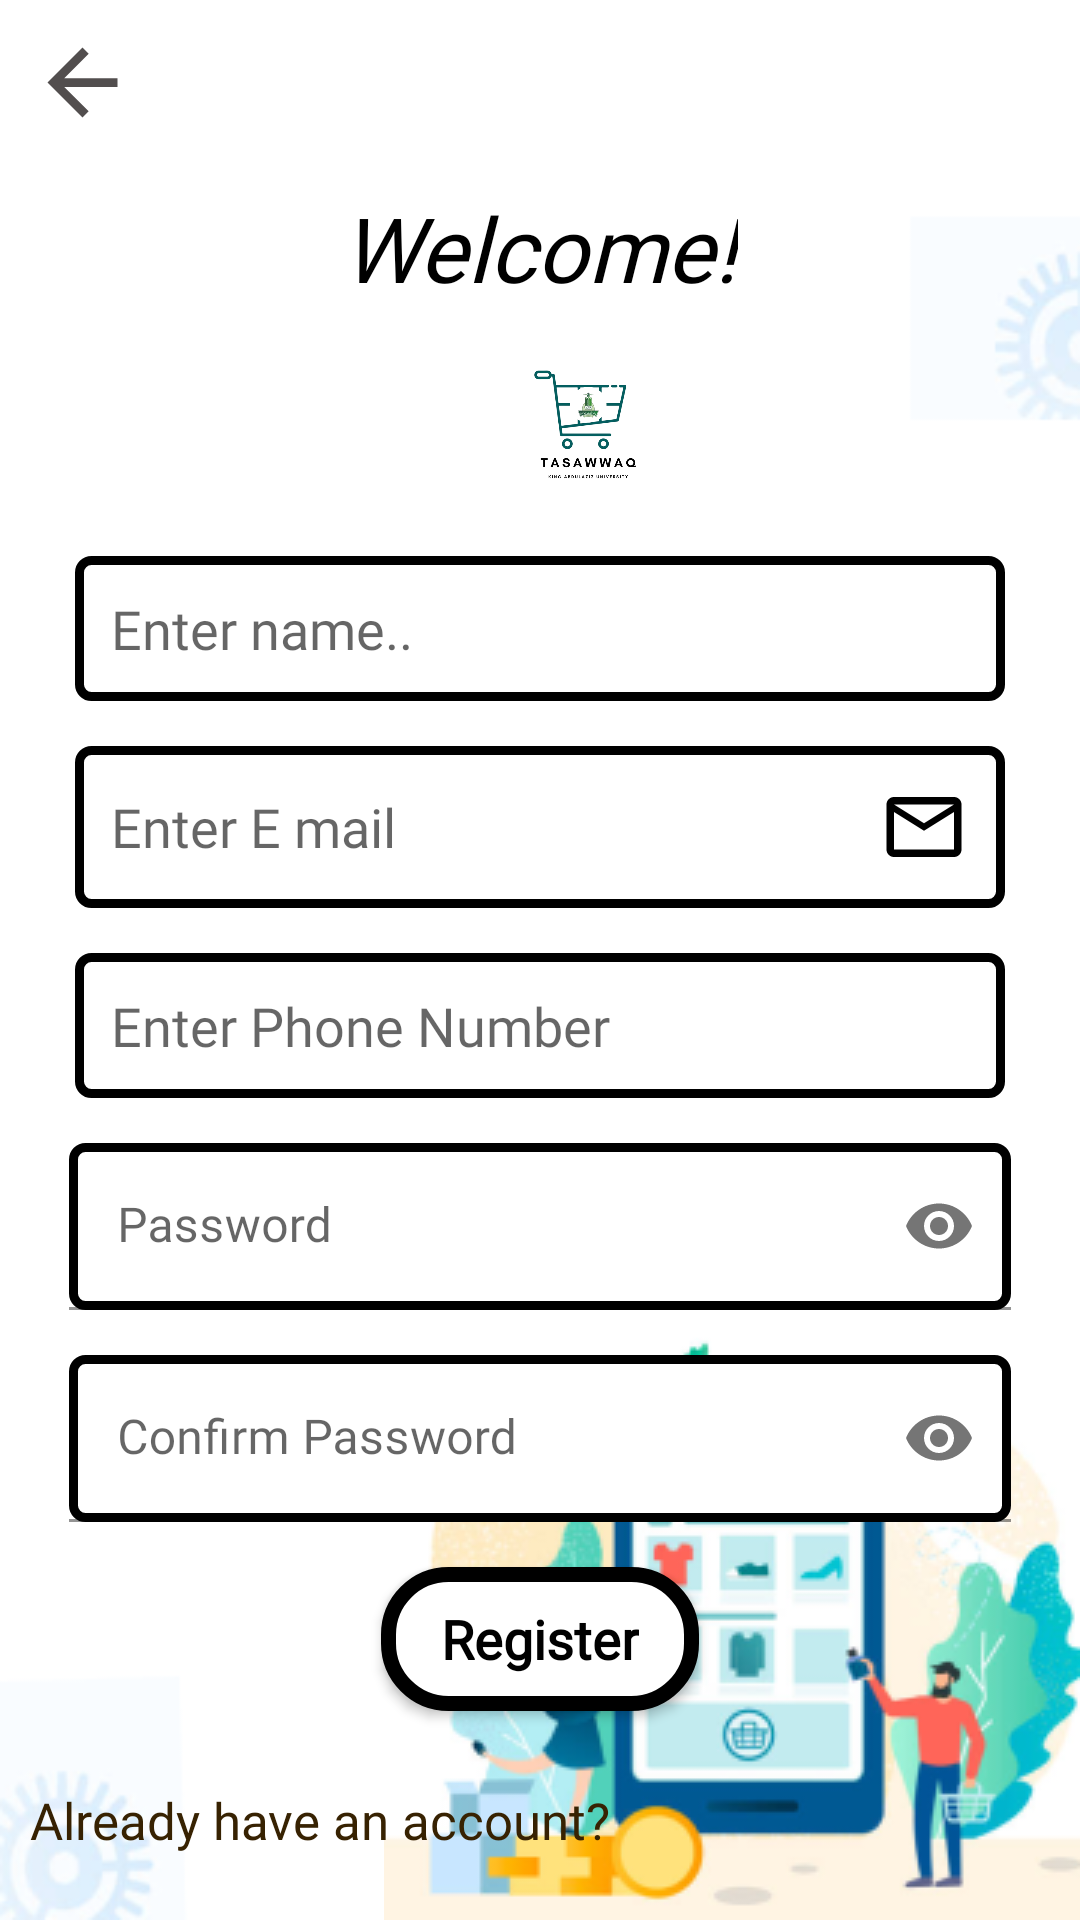

Icons on this 1080 × 1920 Android screen, each with the point to tap as point (x, y):
arrow back: point (82, 82)
